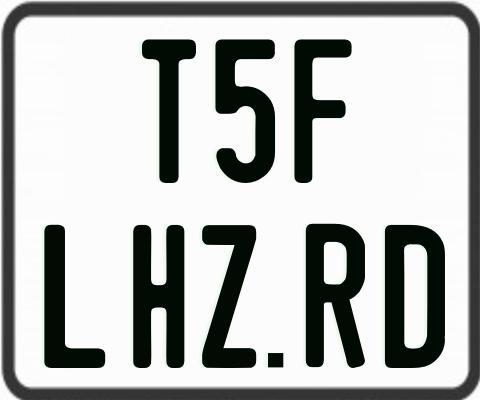5: (212, 38, 277, 182)
D: (385, 223, 449, 372)
F: (293, 37, 354, 185)
H: (130, 222, 182, 367)
L: (44, 223, 105, 370)
R: (304, 223, 364, 373)
T: (139, 37, 195, 181)
Z: (201, 224, 258, 368)
